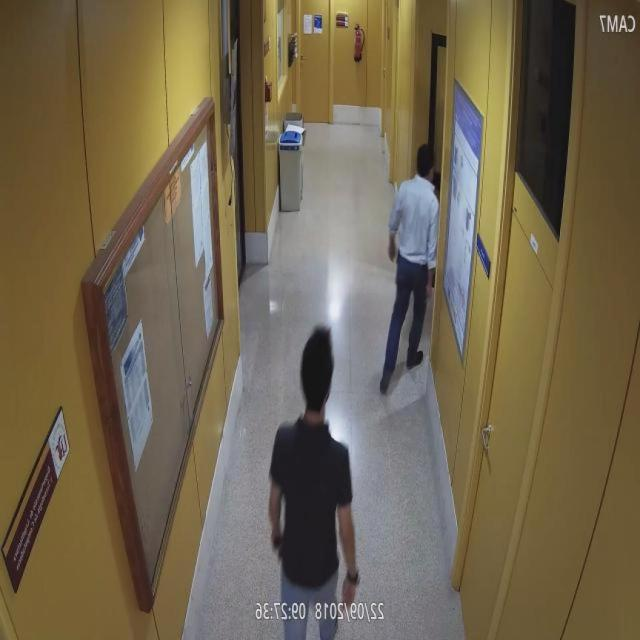pistol: (271, 528, 285, 556)
